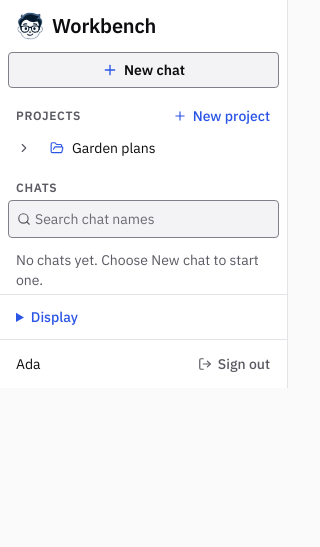
Test: projects (MV7) › shows the server's refusal and keeps the name for another try
The width and height of the screenshot is (320, 547).
Click the button with test id "new-project" at (221, 116), box [164,100,279,132]
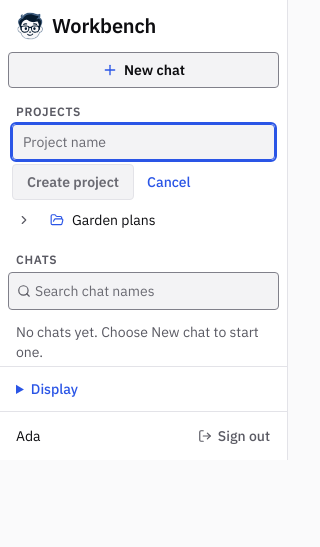
Type "Garden plans" into the field labelled "Project name" at (144, 142), box [12,124,275,160]
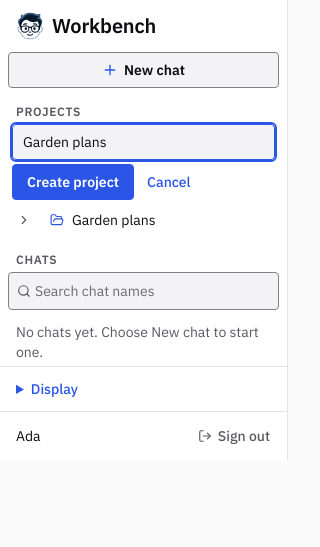
Click the button with test id "new-project-create" at (73, 182), box [12,164,134,200]
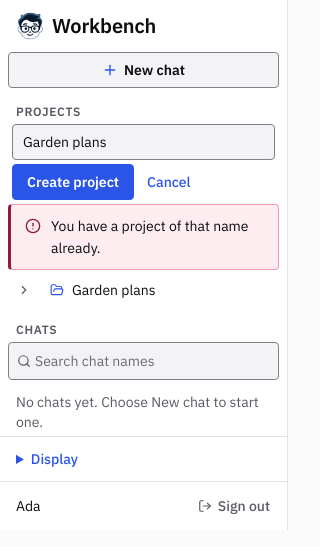
Check: the message with test id "projects-problem" reads "You have a project of that name already.", box [51,217,248,257]
